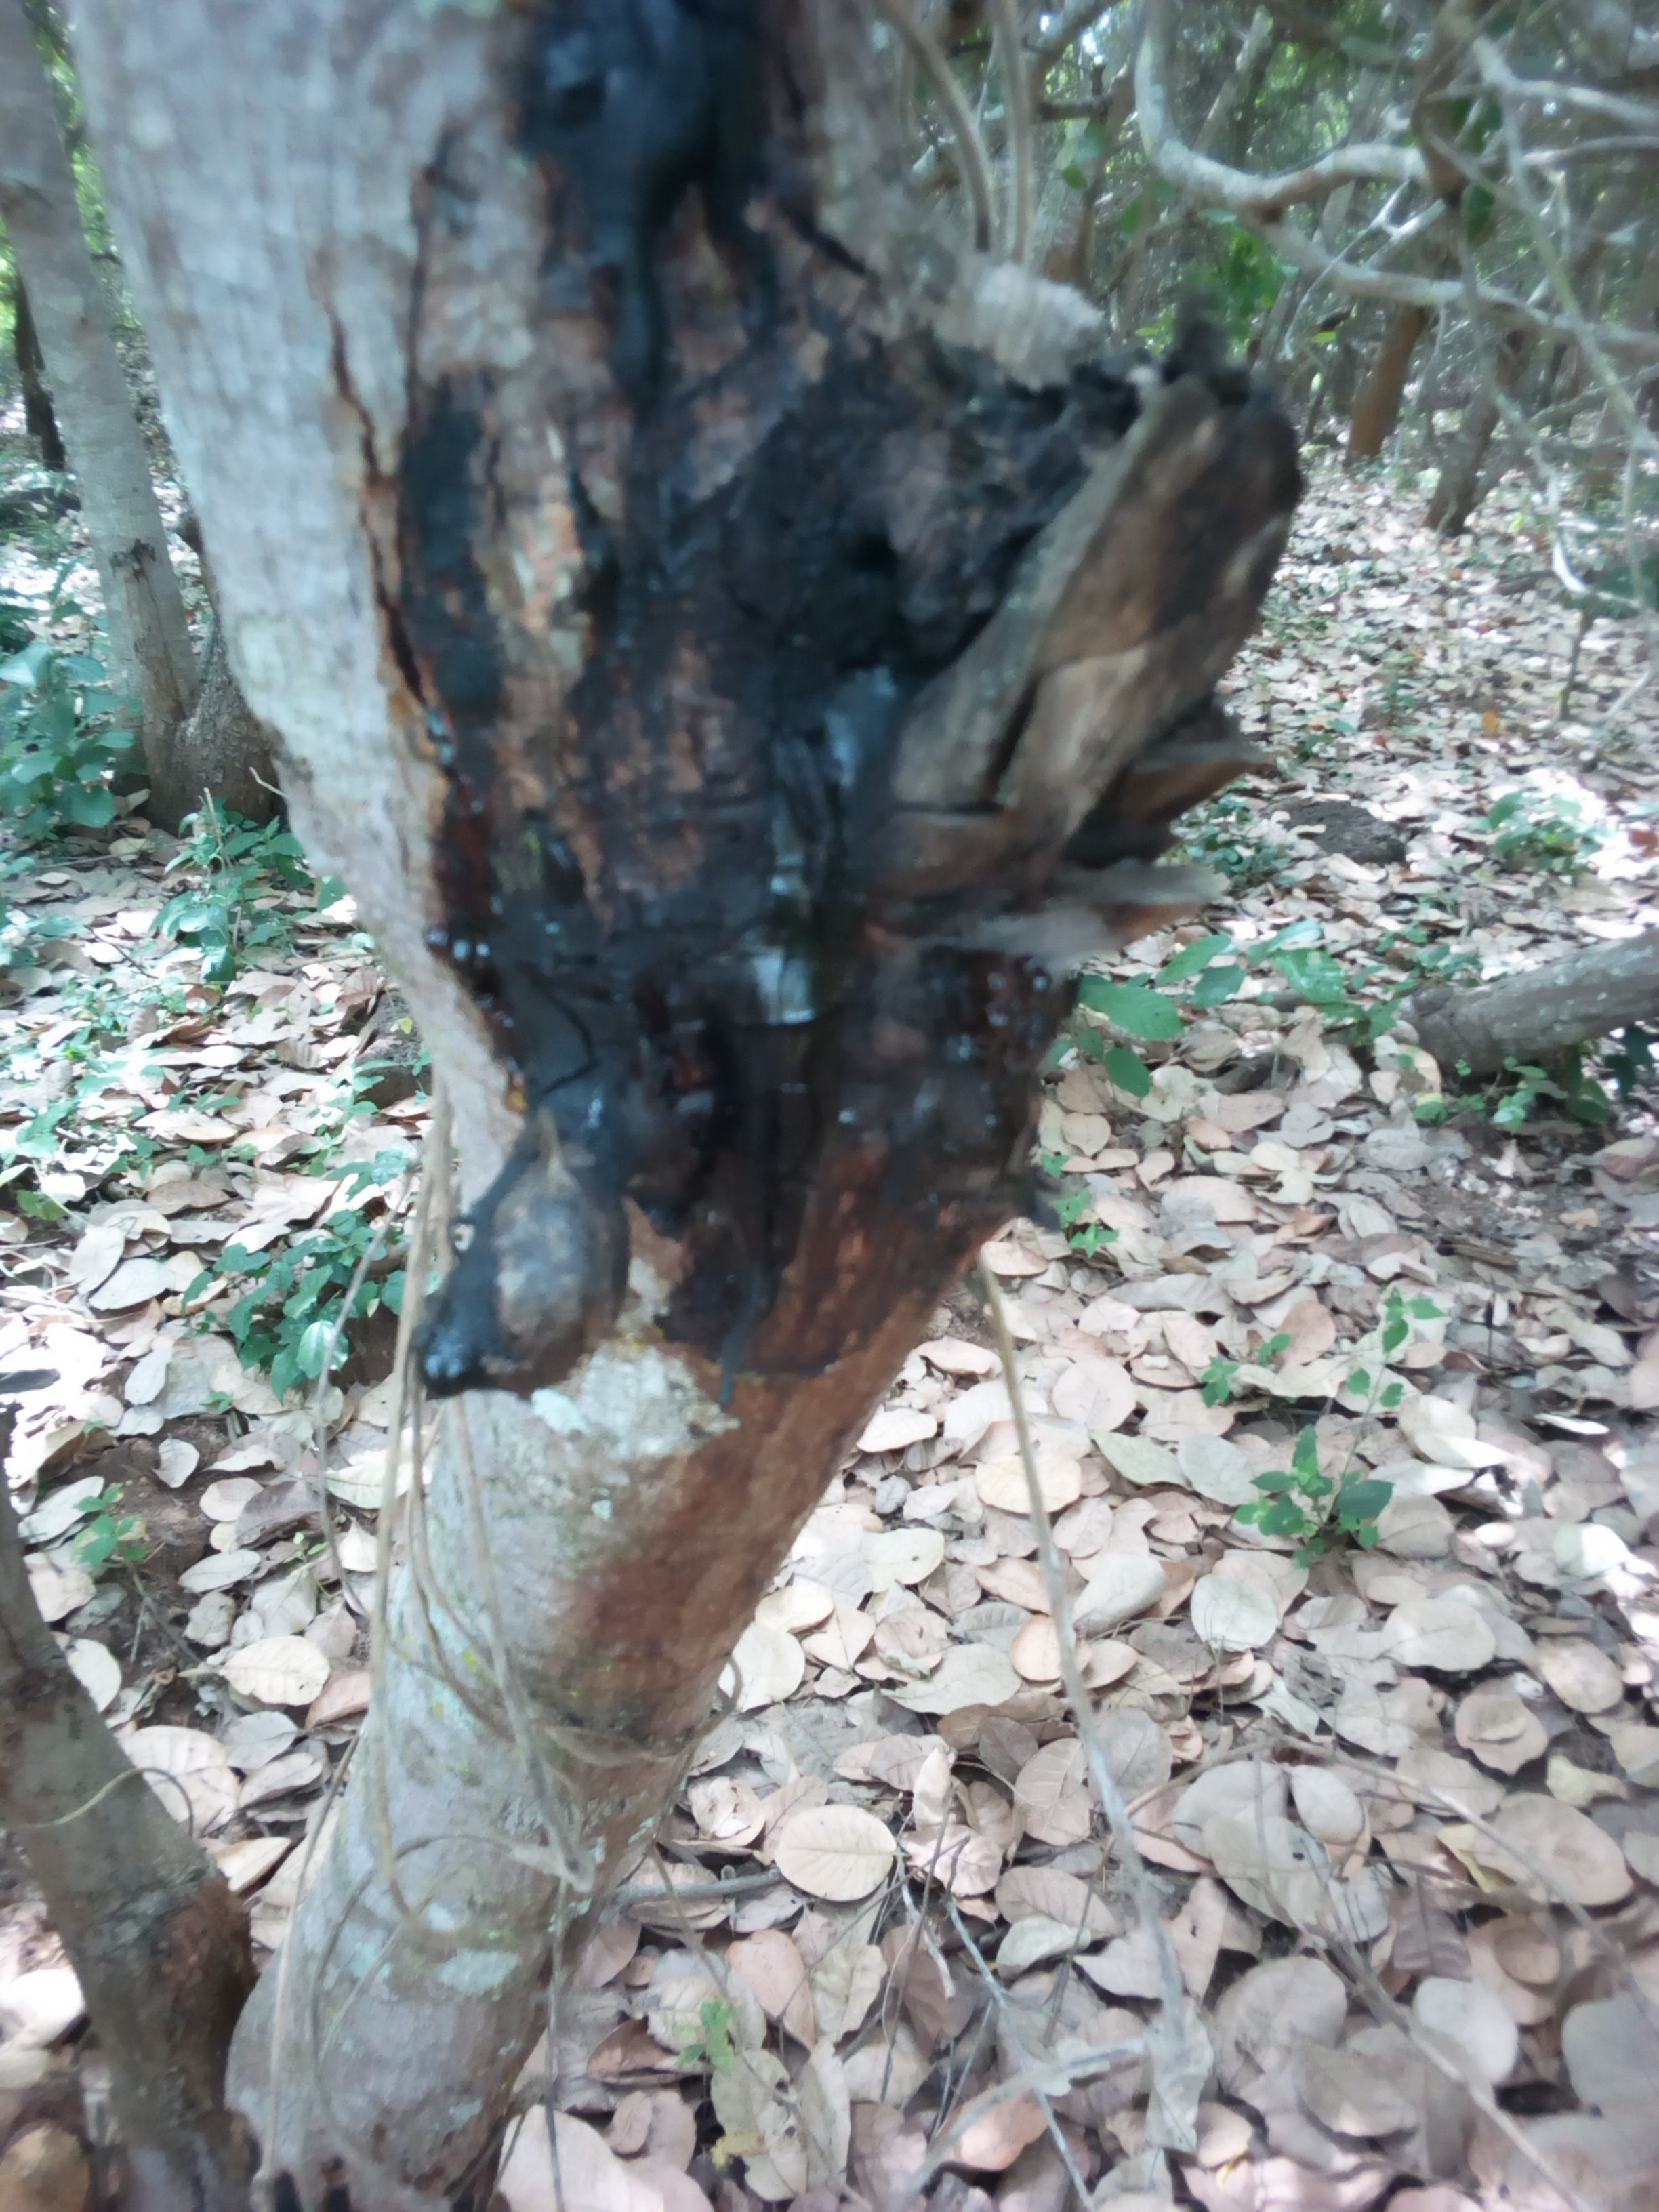Gommose: (349, 5, 1030, 1393)
